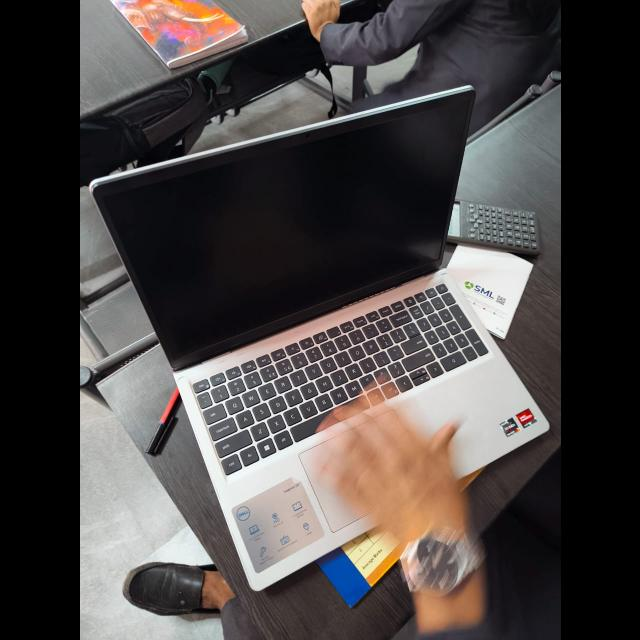laptop: (90, 131, 560, 591)
